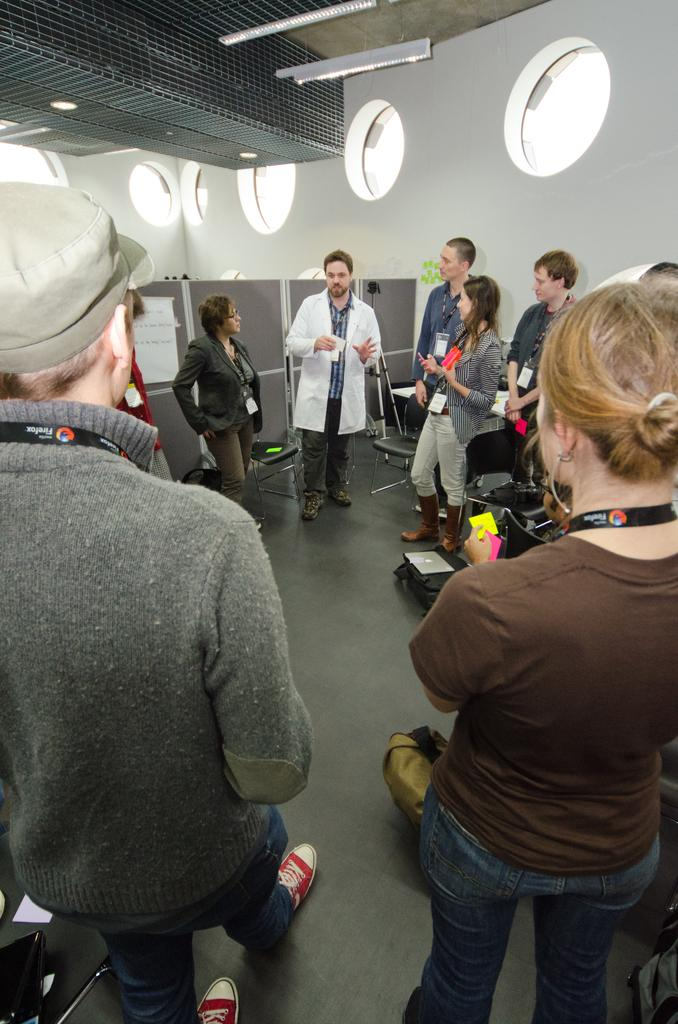Hat: (0, 177, 156, 376)
